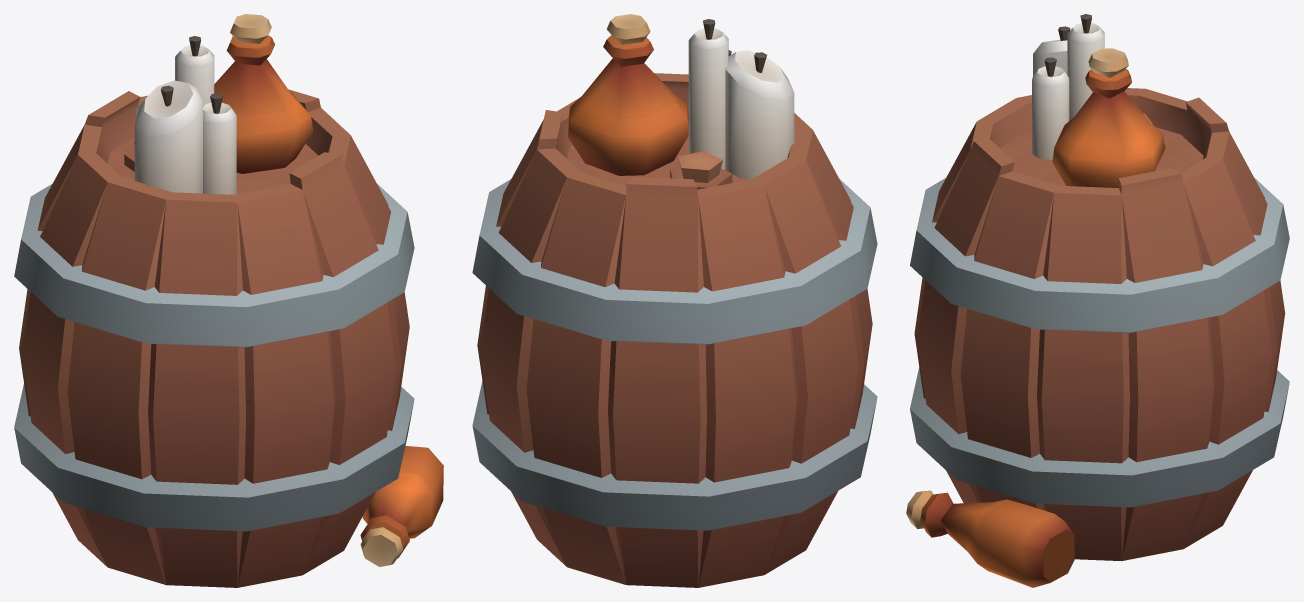
Rendered from barrel_large_decorated.glb.
The picture shows the model from 3 angles, left to right: view 1: azimuth 30°, elevation 25°; view 2: azimuth 150°, elevation 25°; view 3: azimuth 270°, elevation 25°; orthographic projection. The views are drawn at different scales.
Visible parts, largest first — view 1: barrel_large_decorated; view 2: barrel_large_decorated; view 3: barrel_large_decorated.
Boxes of the visible parts, x1=… form: barrel_large_decorated: x1=14, y1=14, x2=443, y2=587; barrel_large_decorated: x1=472, y1=14, x2=877, y2=587; barrel_large_decorated: x1=906, y1=14, x2=1289, y2=587.
Size of the model in its own units: 1.94 by 2.56 by 1.86.
Materials: 1 (1 with a texture image).
